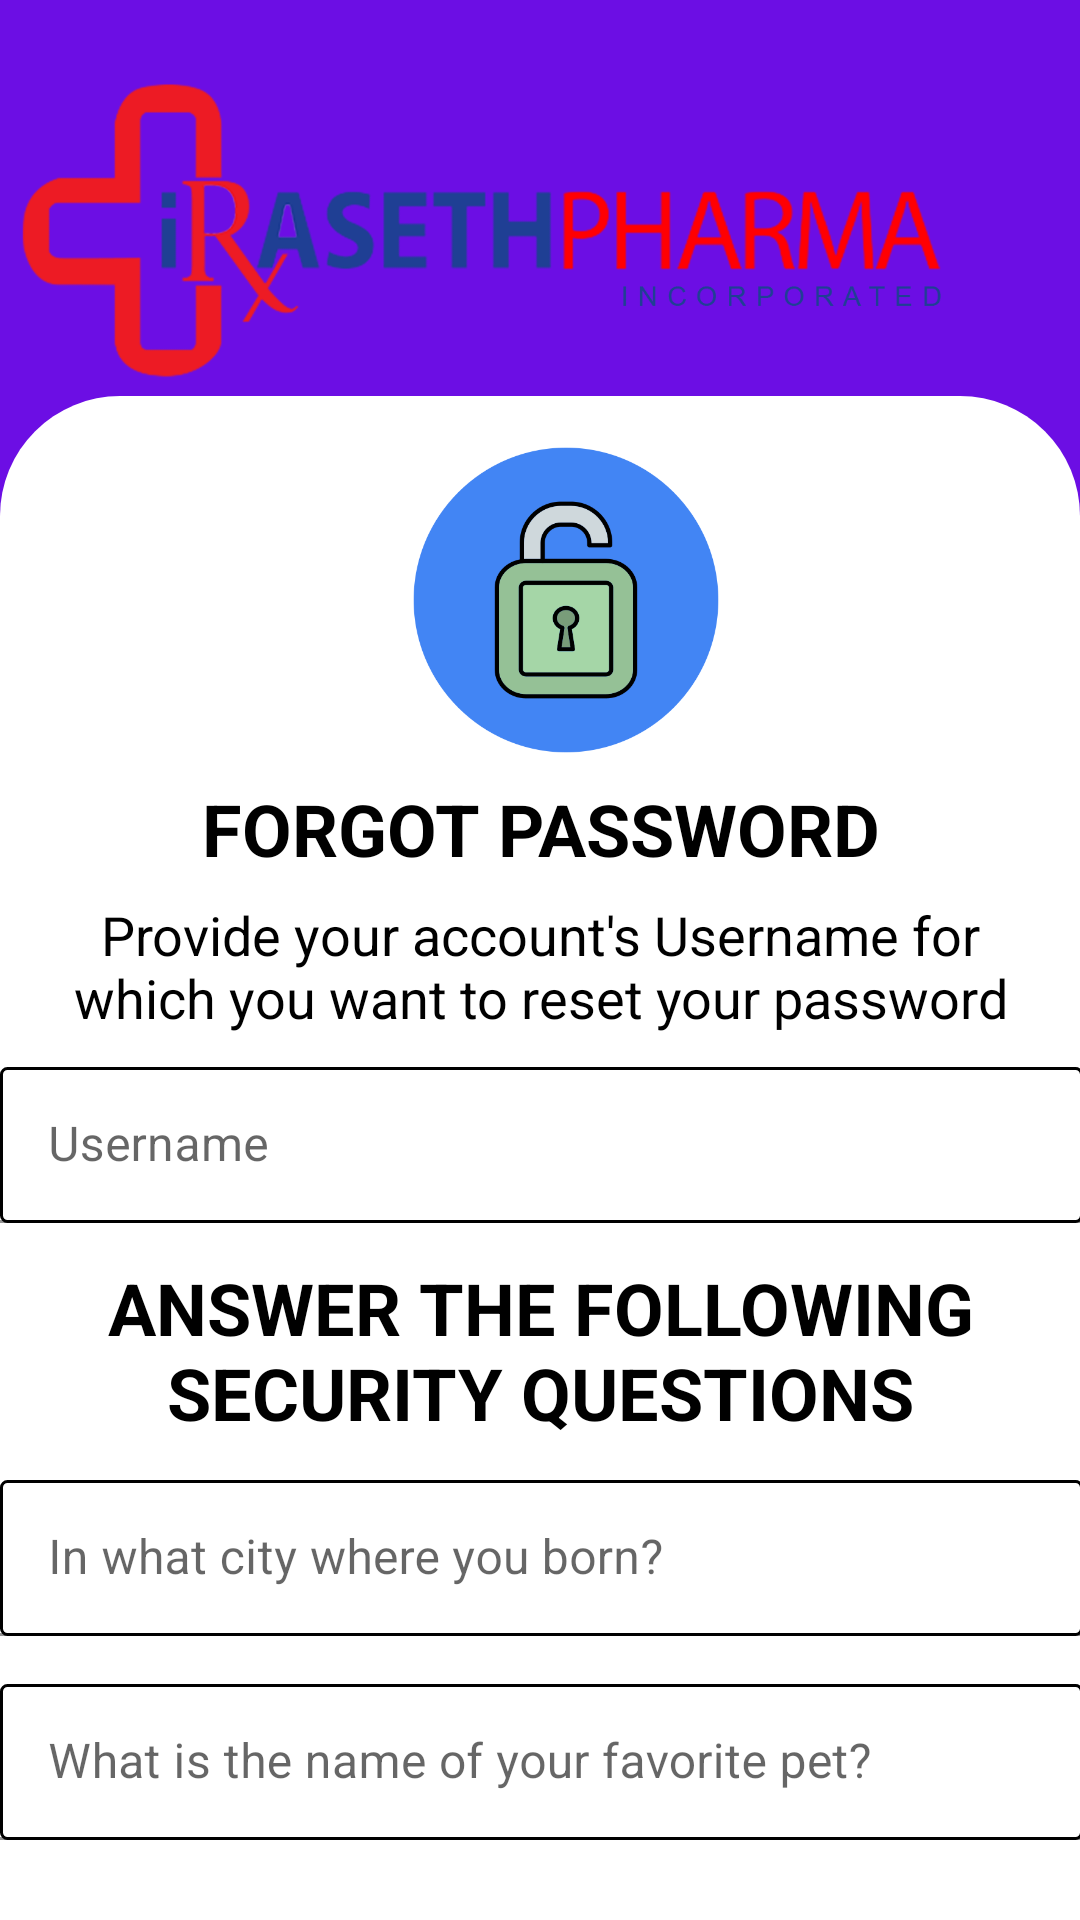

Locate icon controls on the screen. Image size 1080 x 1920, boxes as rect(x1, y1, x2, y2).
unlock: rect(413, 447, 719, 753)
